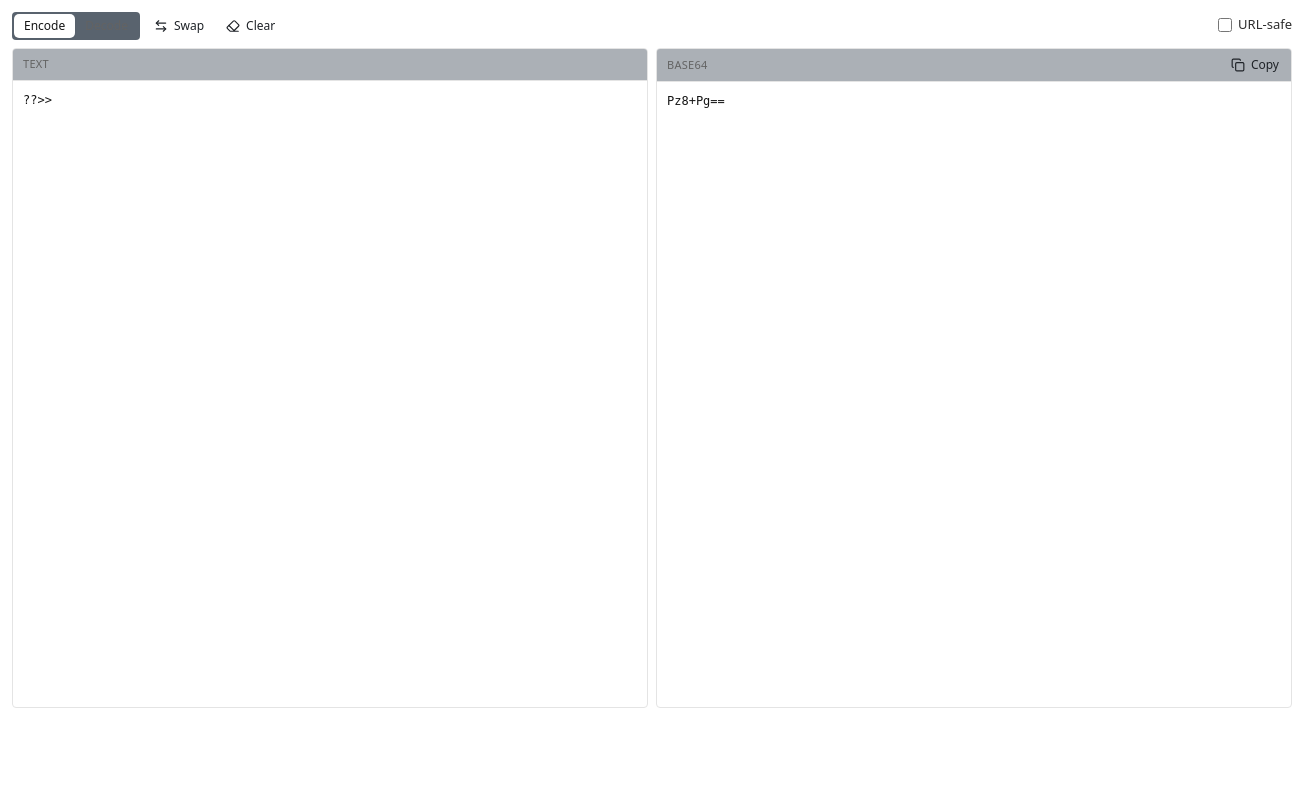
Base64 › supports URL-safe output
Expected: the text box named "Result" holds "Pz8+Pg==", [657,82,1291,707]
Click the checkbox labelled "URL-safe" at (1225, 25), box [1218,18,1232,32]
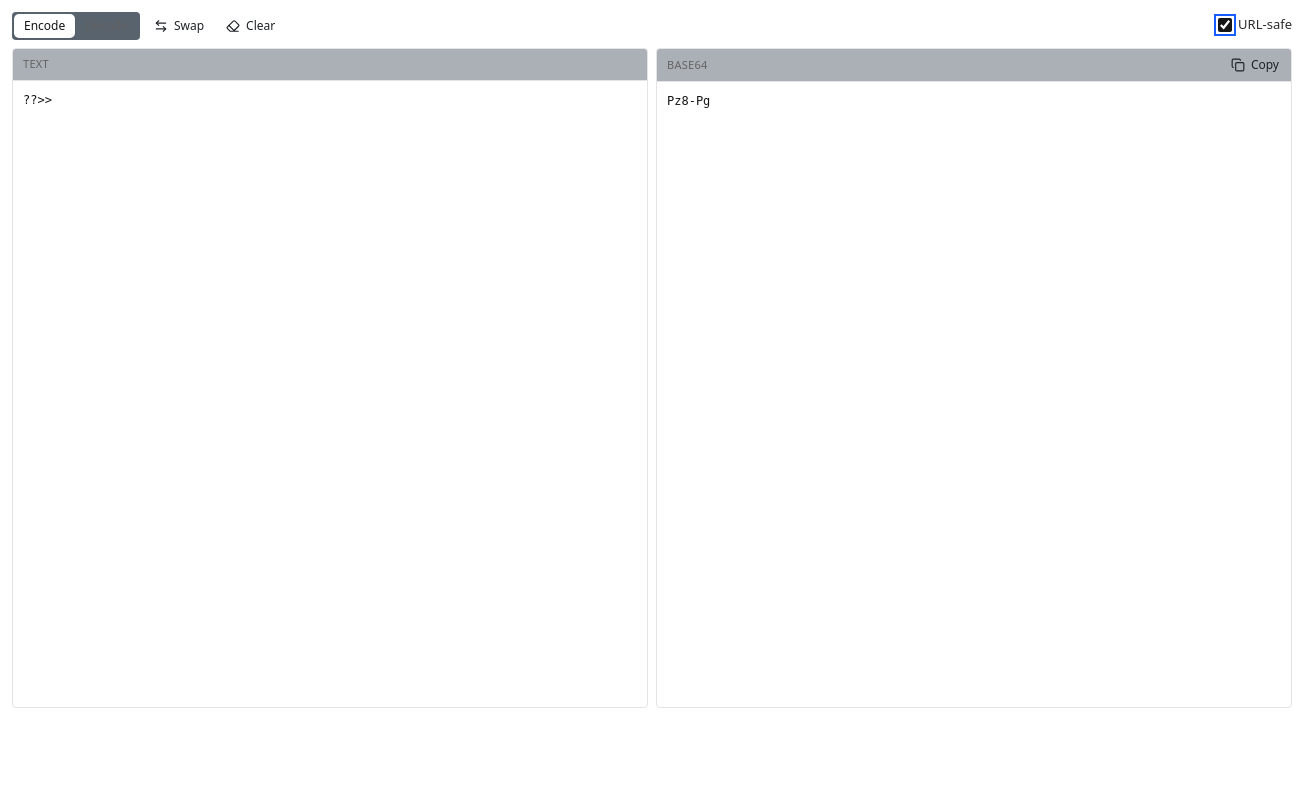
Expected: the text box named "Result" holds "Pz8-Pg", [657,82,1291,707]
